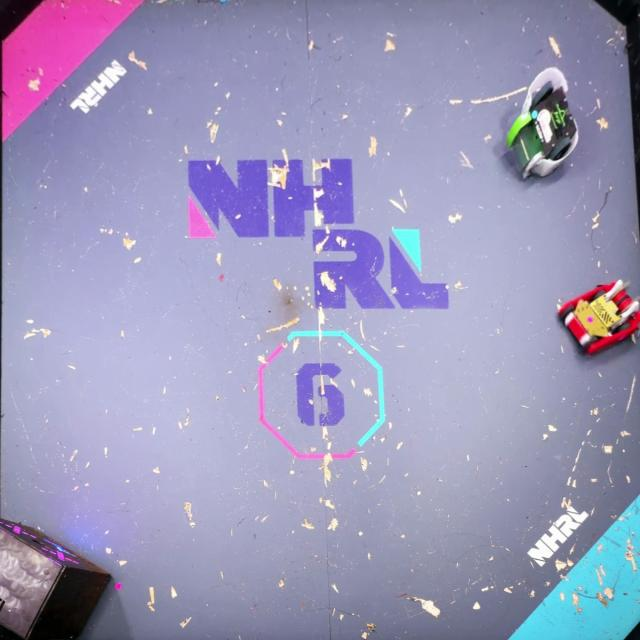housebot: (0, 516, 112, 640)
robot: (505, 65, 580, 182), (557, 278, 640, 354)
